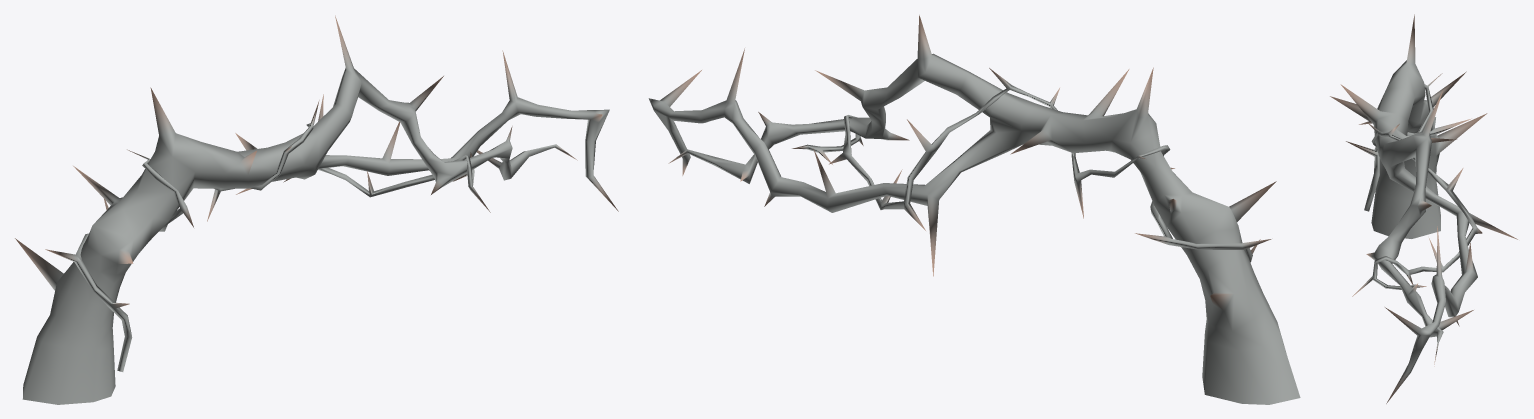
3 renders of one model, left to right at view 1: azimuth 30°, elevation 25°; view 2: azimuth 150°, elevation 25°; view 3: azimuth 270°, elevation 25°, orthographic. The views are drawn at different scales.
Parts seen in each view (by area): view 1: G:\FFXIV-MapTools\exports\f1f2\bg\ffxiv\fst_f1\fld\f1f2\bgpa (×2); view 2: G:\FFXIV-MapTools\exports\f1f2\bg\ffxiv\fst_f1\fld\f1f2\bgpa (×2); view 3: G:\FFXIV-MapTools\exports\f1f2\bg\ffxiv\fst_f1\fld\f1f2\bgpa (×2).
Part boxes in pixels (x1,y1,x2,y2): G:\FFXIV-MapTools\exports\f1f2\bg\ffxiv\fst_f1\fld\f1f2\bgpa (×2): [15, 15, 618, 404]; G:\FFXIV-MapTools\exports\f1f2\bg\ffxiv\fst_f1\fld\f1f2\bgpa (×2): [648, 15, 1300, 404]; G:\FFXIV-MapTools\exports\f1f2\bg\ffxiv\fst_f1\fld\f1f2\bgpa (×2): [1330, 14, 1517, 403].
Size of the model in its own units: 28.62 by 13.29 by 9.03.
